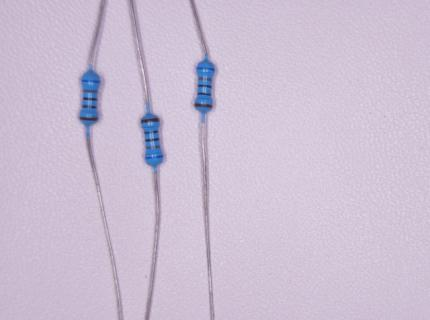Blue band: (196, 67, 215, 72), (82, 80, 101, 84), (145, 155, 163, 159)
Grey band: (83, 89, 98, 94), (198, 77, 212, 82), (146, 145, 160, 149)
